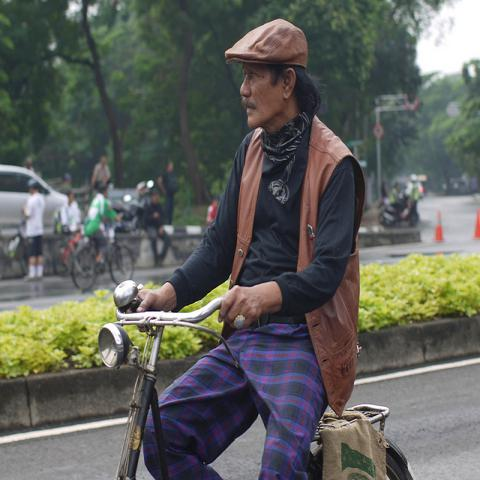car: (0, 166, 68, 241), (442, 177, 468, 196)
motorcycle: (376, 199, 418, 229)
